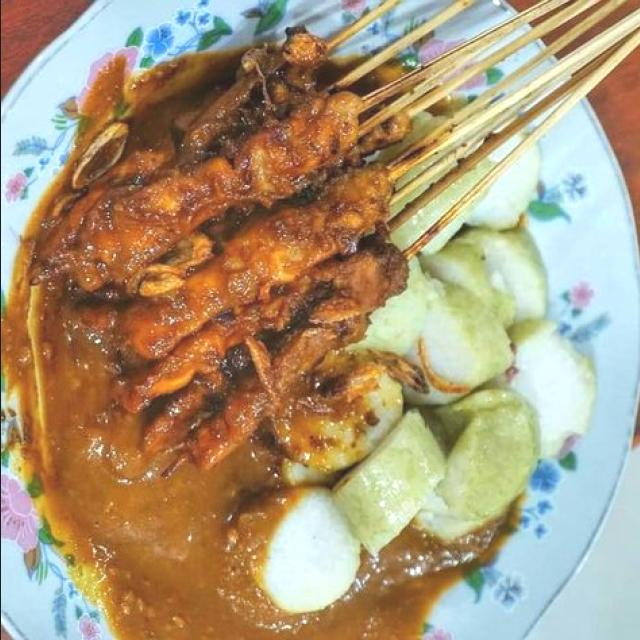sate: (8, 0, 640, 485)
